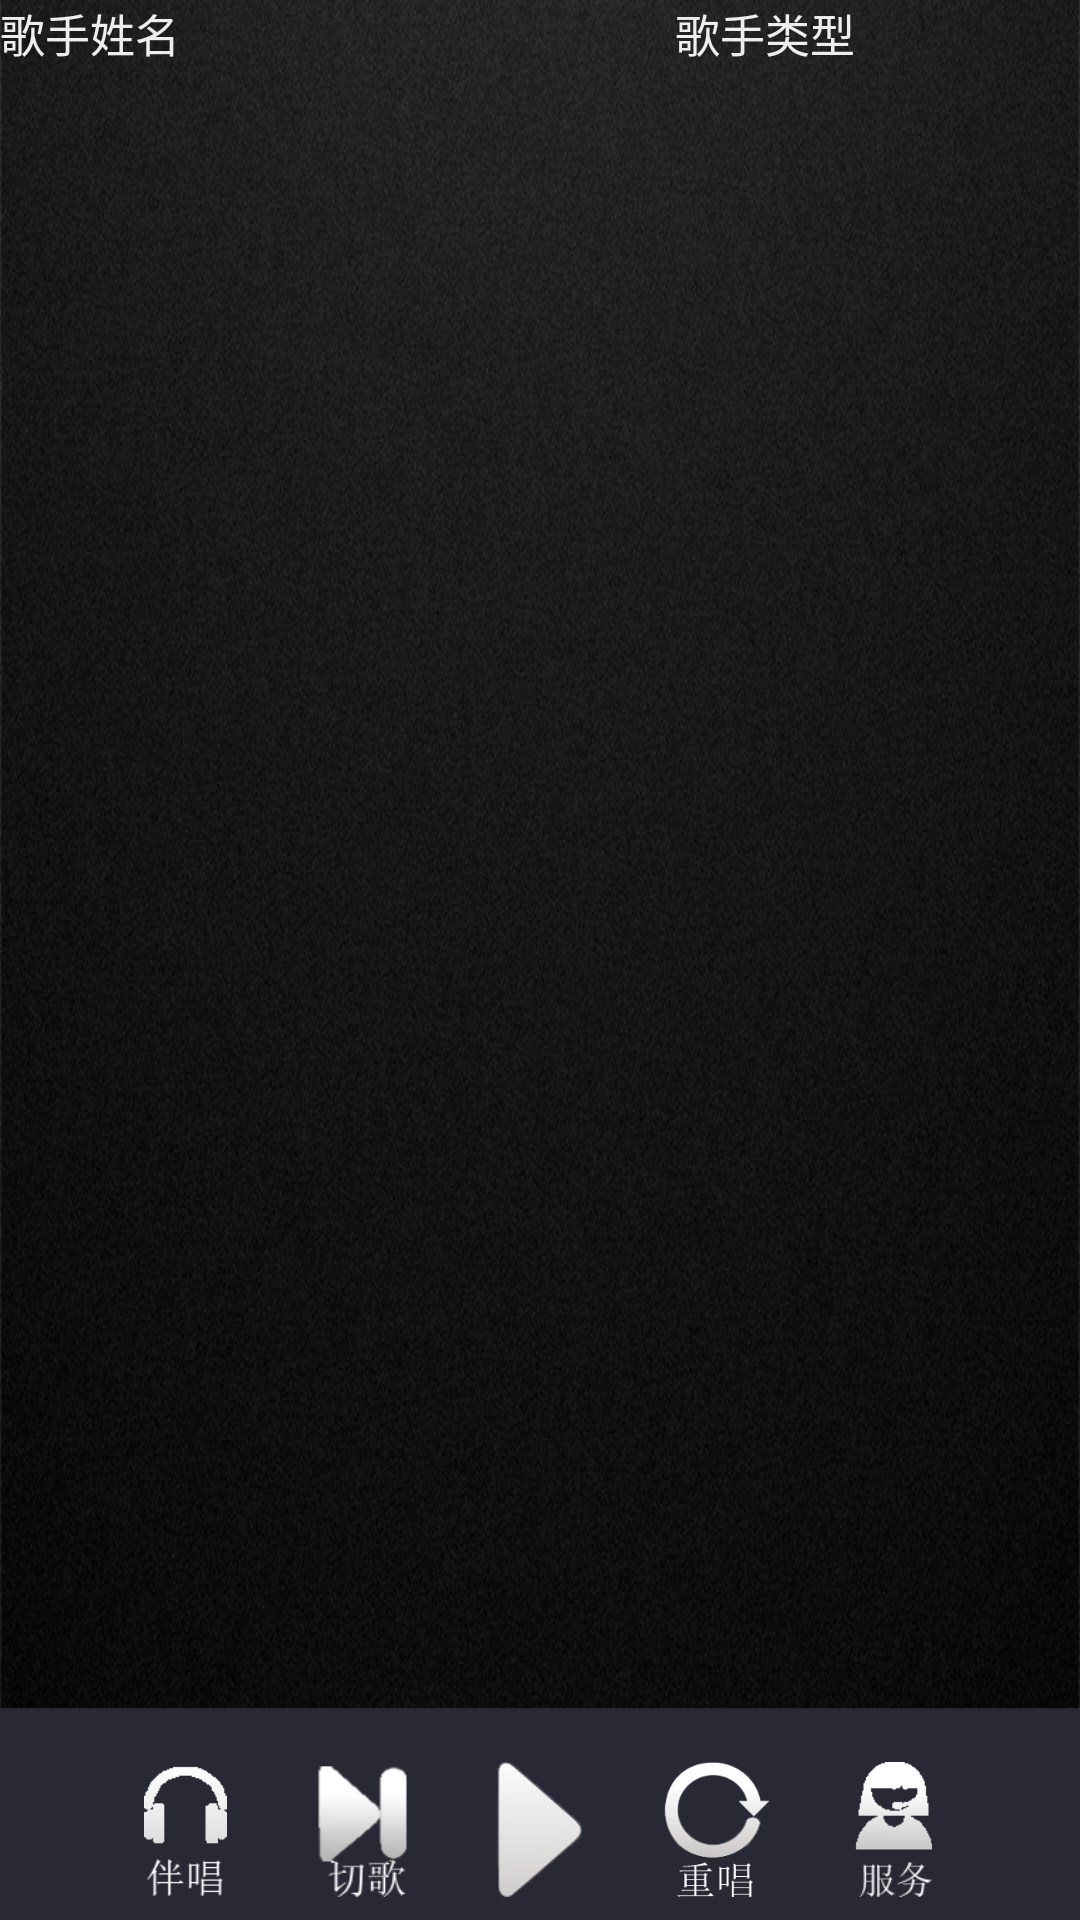

Named icons in this screenshot (1080×1920) and their centers, (x=x, y=y):
play: (x=539, y=1829)
